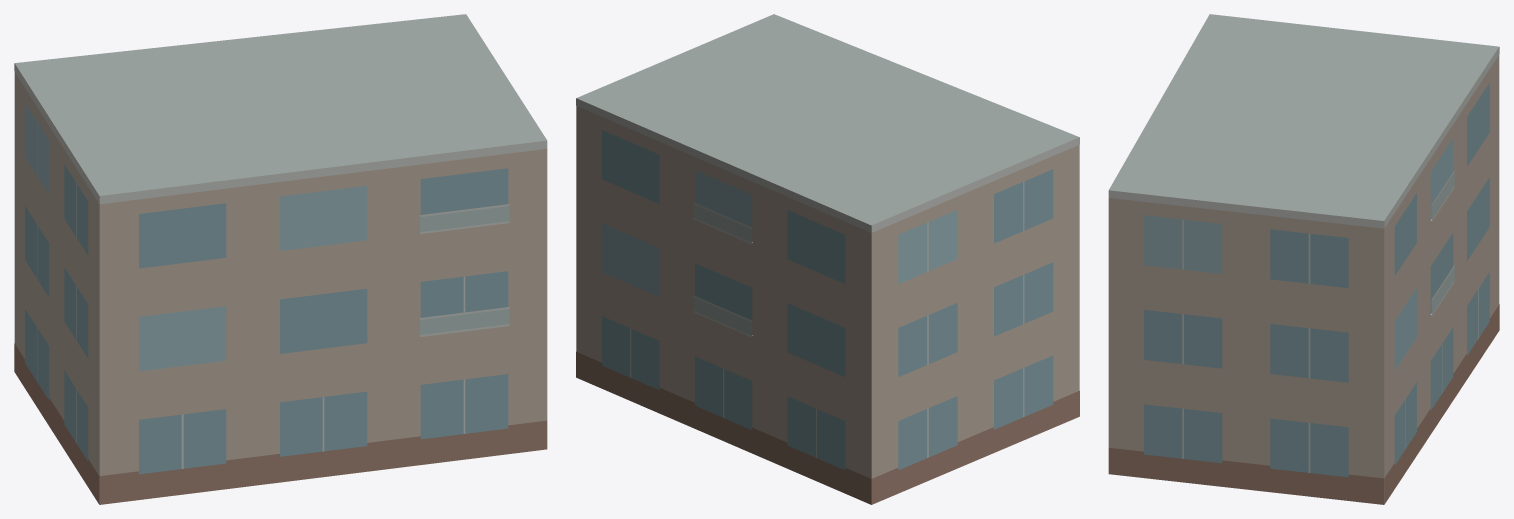
Rendered from survey-upis-32587712.glb.
3 renders of one model, left to right at view 1: azimuth 30°, elevation 25°; view 2: azimuth 150°, elevation 25°; view 3: azimuth 270°, elevation 25°, orthographic. The views are drawn at different scales.
Visible parts, largest first — view 1: survey-upis-32587712.tmp; view 2: survey-upis-32587712.tmp; view 3: survey-upis-32587712.tmp.
Part boxes in pixels (x1=…): survey-upis-32587712.tmp: x1=14, y1=14, x2=547, y2=504; survey-upis-32587712.tmp: x1=576, y1=14, x2=1079, y2=504; survey-upis-32587712.tmp: x1=1108, y1=14, x2=1499, y2=504.
Size of the model in its own units: 14.33 by 9.15 by 11.43.
